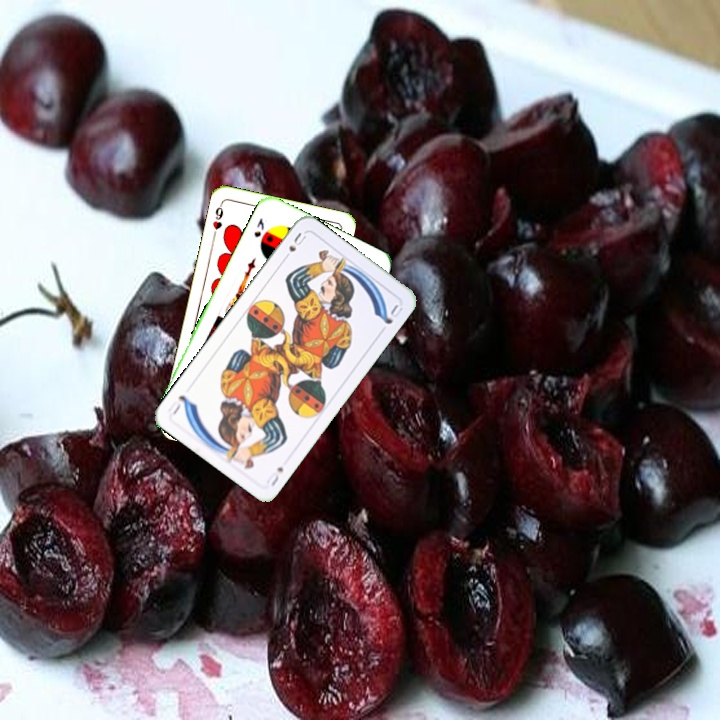H9: (208, 199, 226, 240)
SK: (250, 214, 267, 240)
SU: (278, 228, 309, 264), (262, 463, 286, 489)
